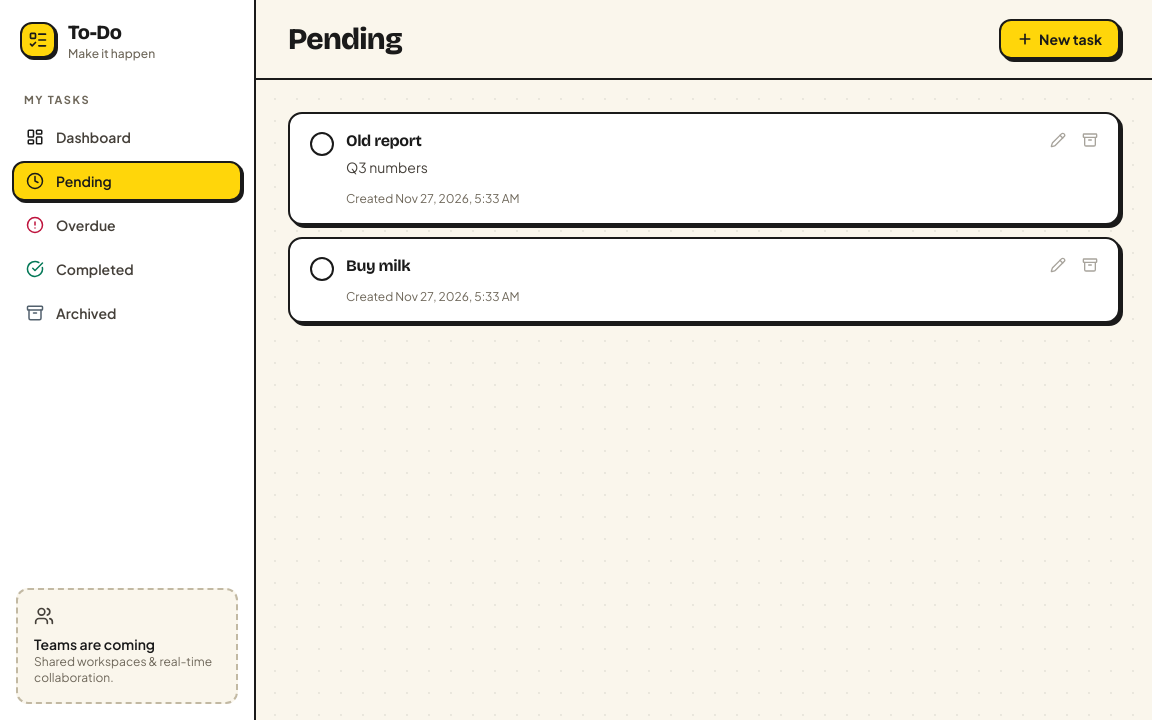
it: archiving a task › is hidden from the Pending page
Expected: the list named "Tasks" is shown, [288,112,1120,323]
Click the button named "Archive \"Old report\"". click: (1090, 140)
box: [1074,124,1106,156]
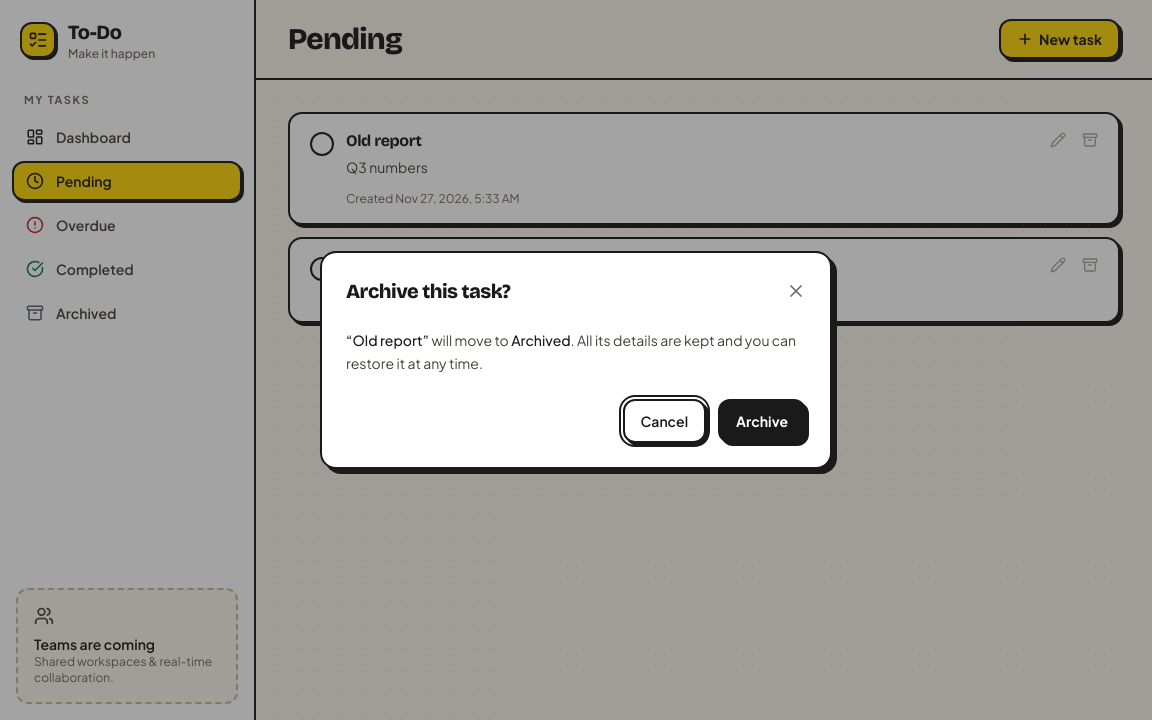
Click the button "Archive". click: (762, 421)
box: [718,399,806,443]
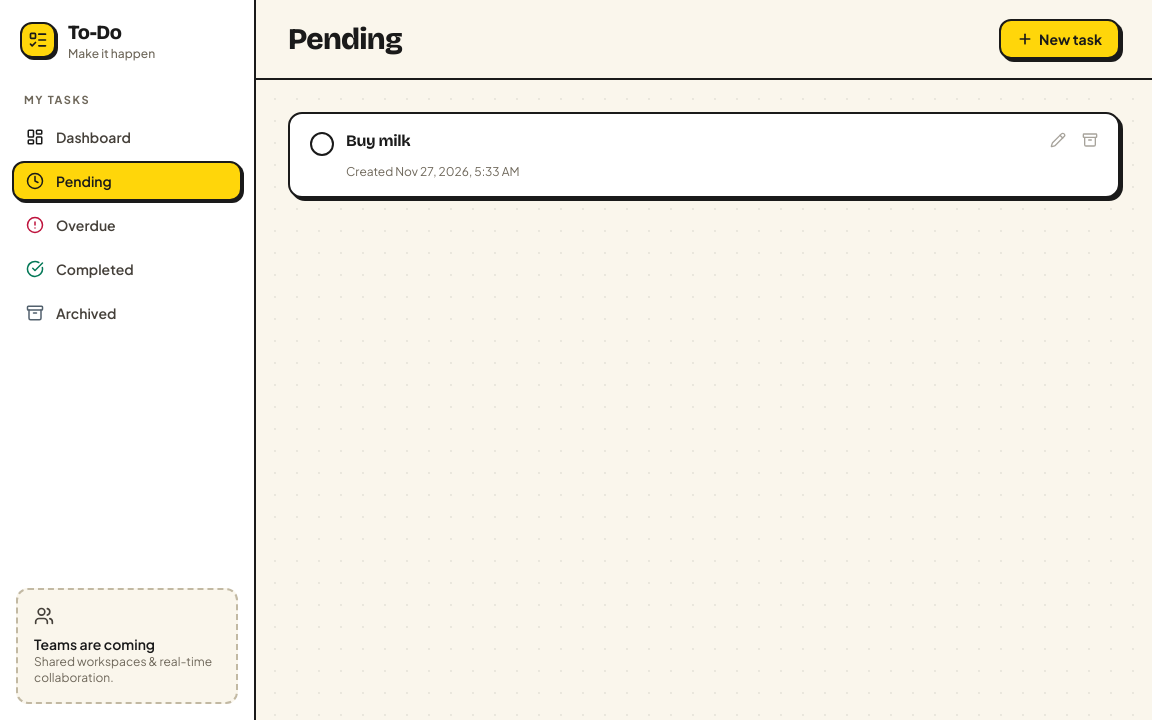
Expected: the heading "Buy milk" is shown, [346,131,410,150]
Now the link "Old report" is gone
